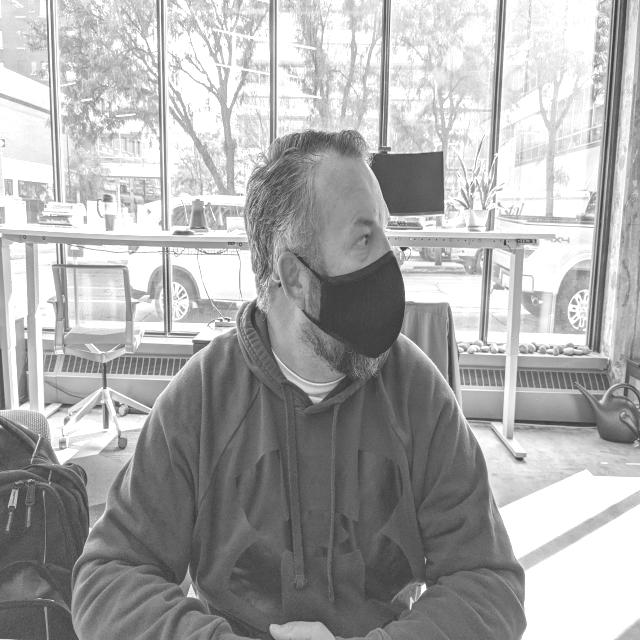real: (264, 146, 406, 360)
